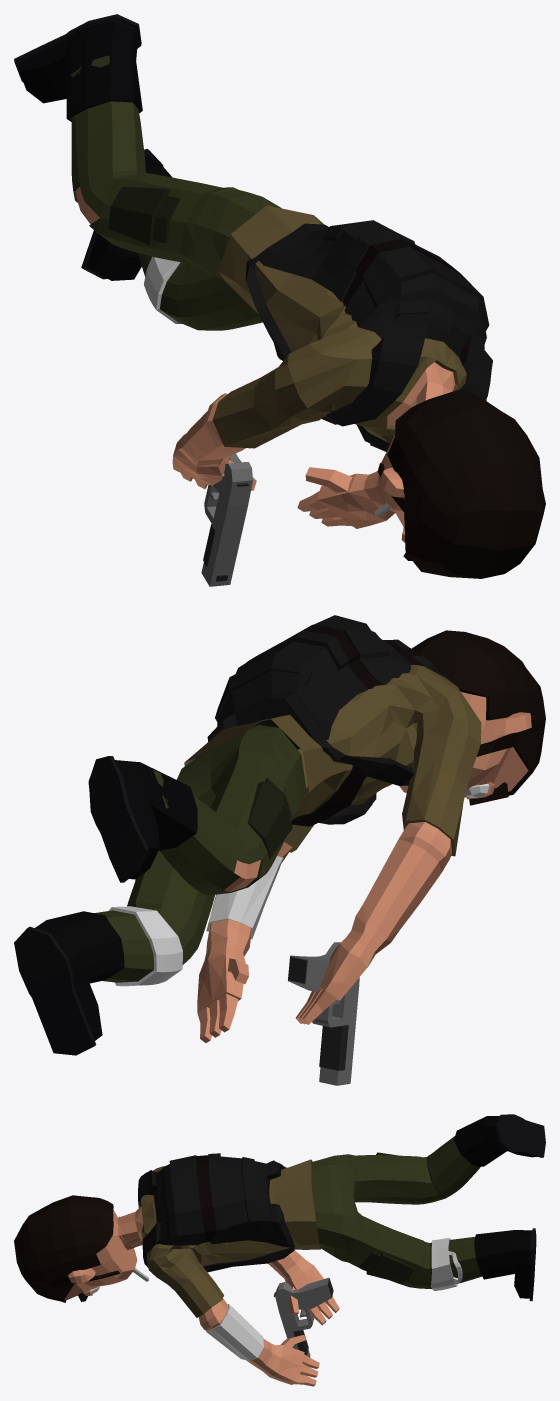
Rendered from frame_0064.obj.
3 renders of one model, top to bottom at view 1: azimuth 30°, elevation 25°; view 2: azimuth 150°, elevation 25°; view 3: azimuth 270°, elevation 25°, orthographic. The views are drawn at different scales.
Visible parts, largest first — view 1: Body, Gun; view 2: Body, Gun; view 3: Body, Gun.
Part boxes in pixels (bbox=[...]): Body: bbox=[14, 14, 545, 578]; Gun: bbox=[201, 453, 252, 586]; Body: bbox=[14, 615, 545, 1055]; Gun: bbox=[288, 942, 359, 1085]; Body: bbox=[14, 1114, 545, 1386]; Gun: bbox=[274, 1277, 333, 1357].
Size of the model in its own units: 1.3 by 2.29 by 4.13.
